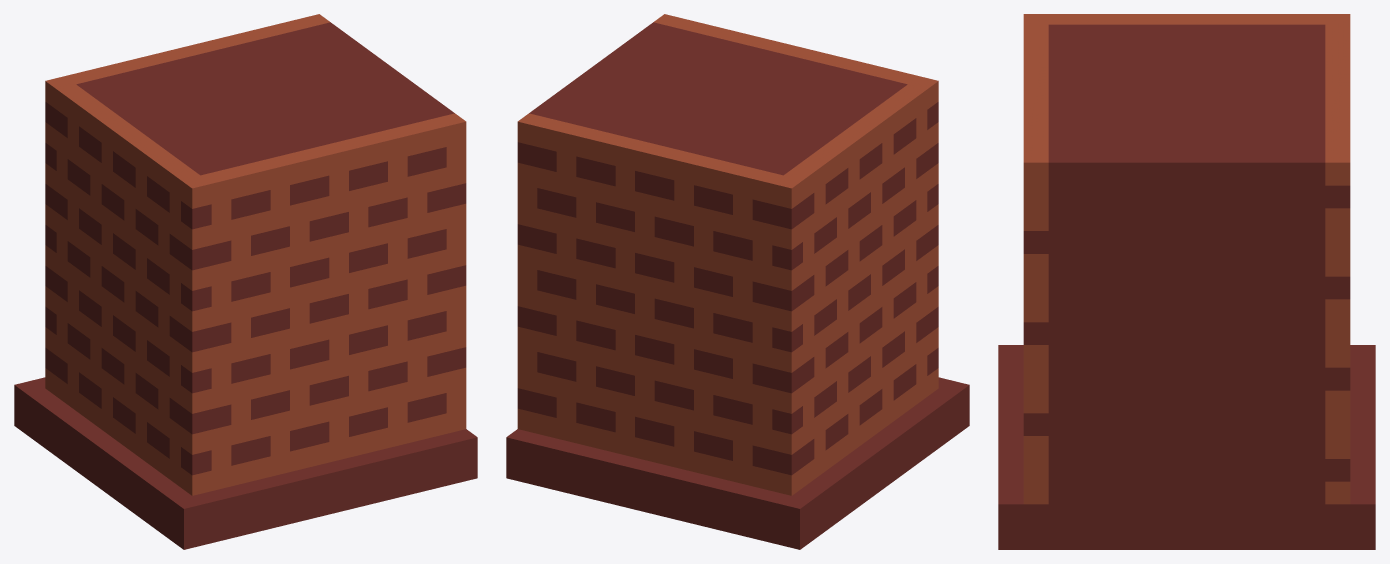
File: dungeon_b_b_inner_wall_ending_flipped.obj
The picture shows the model from 3 angles, left to right: view 1: azimuth 30°, elevation 25°; view 2: azimuth 150°, elevation 25°; view 3: azimuth 270°, elevation 25°; orthographic projection. The views are drawn at different scales.
Bounding box in the file's own units: 1.5 × 1.7 × 1.5.
Materials: 1 (1 with a texture image).
